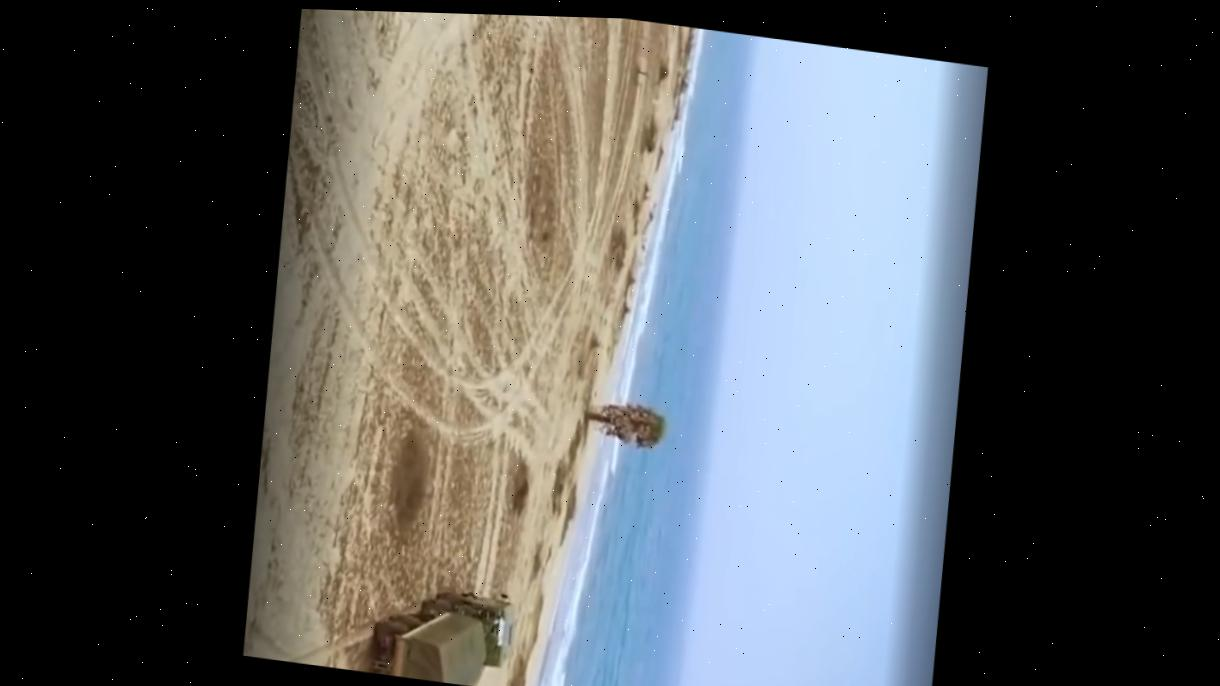truck: (366, 572, 518, 686)
